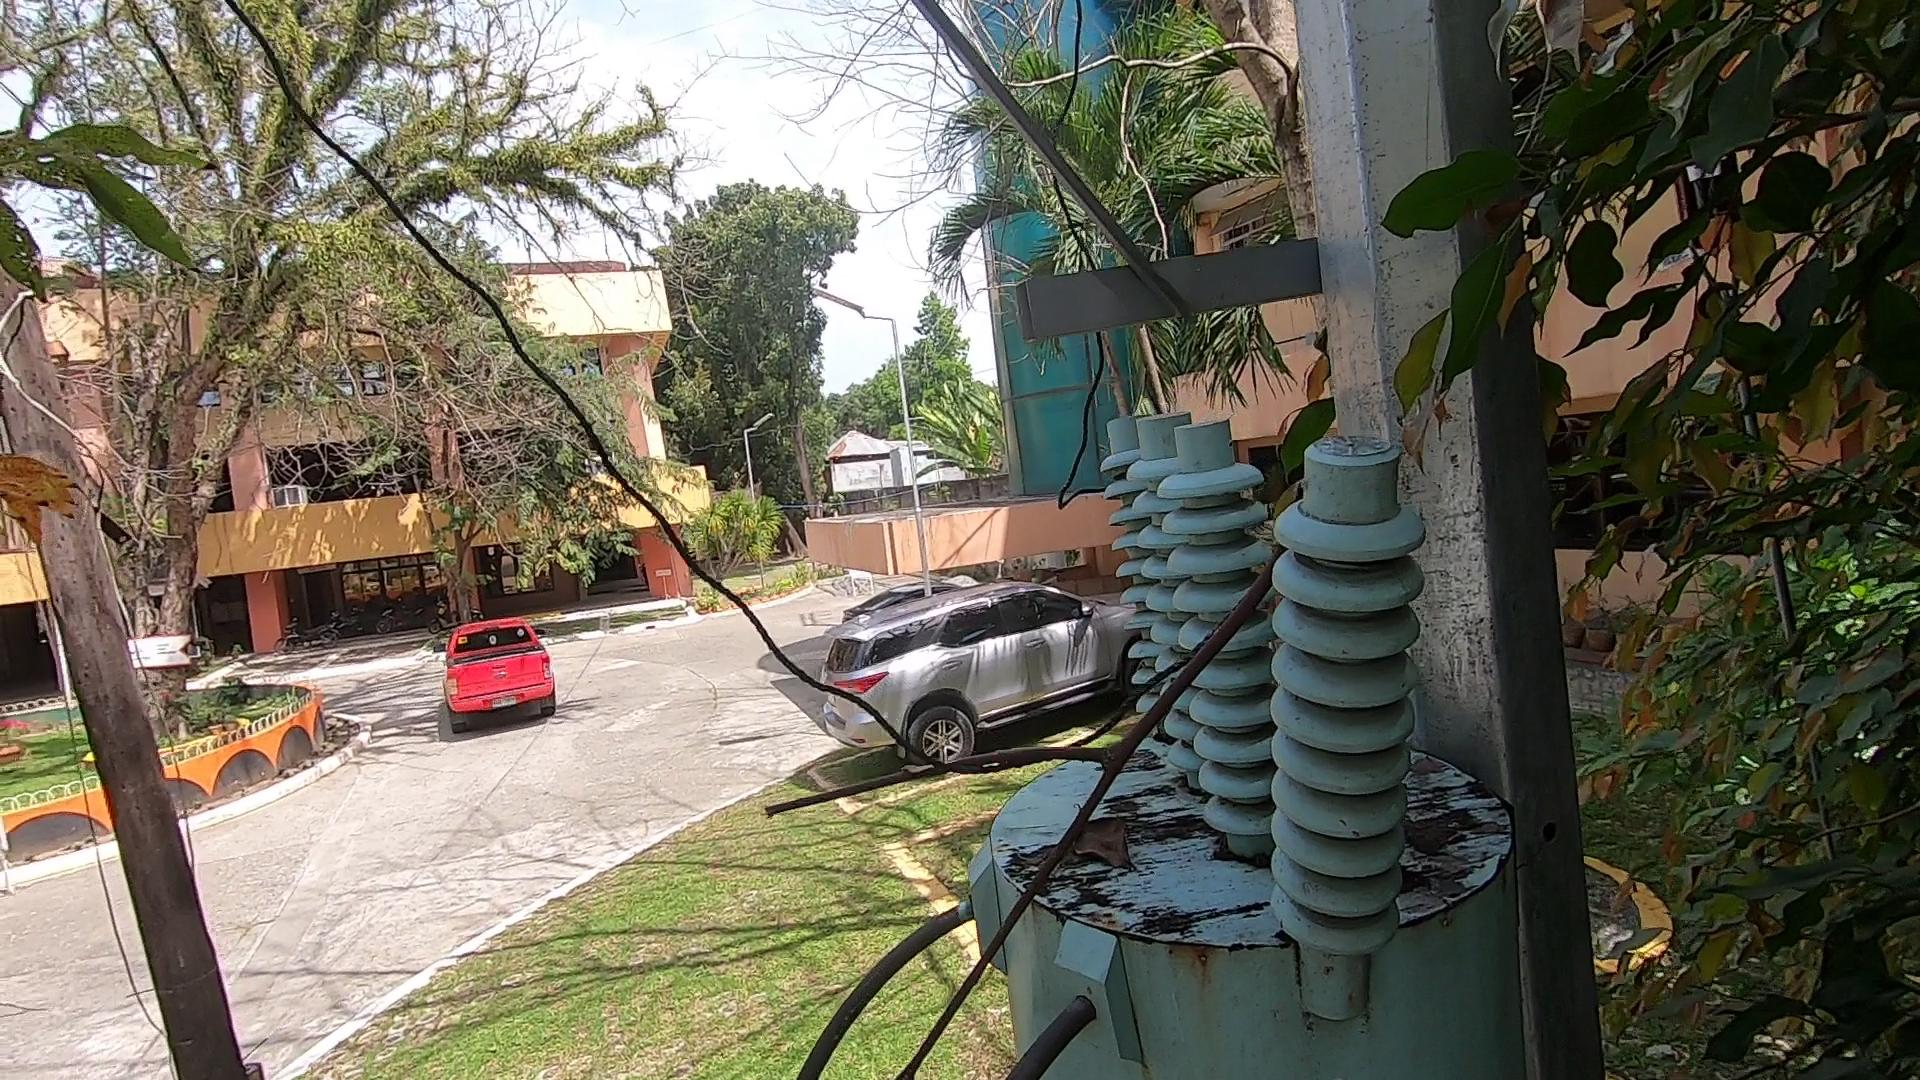leaf: (1054, 803, 1142, 882)
tree branch: (713, 543, 1313, 1080)
